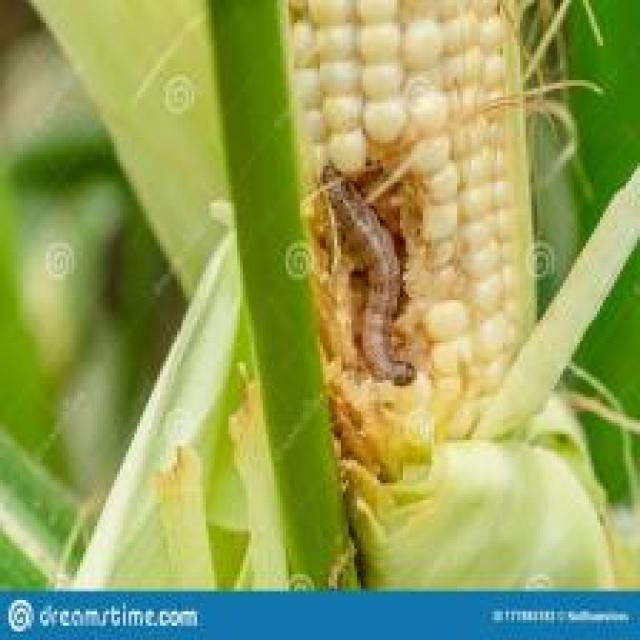Plaga: (313, 147, 430, 404)
